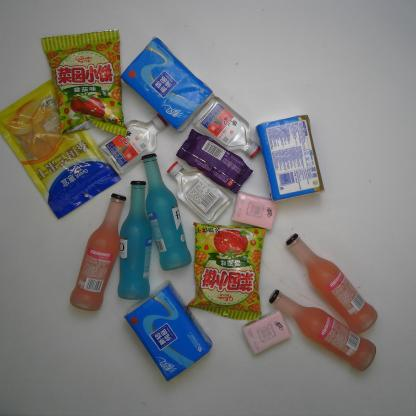Alcohol: (284, 232, 380, 337), (268, 288, 376, 372), (69, 191, 128, 313), (137, 152, 193, 272), (190, 95, 264, 159), (96, 112, 169, 176), (117, 178, 154, 301), (165, 160, 233, 224)
Dessert: (174, 127, 254, 195)
Dried Fruit: (1, 79, 122, 221)
Puffed Food: (39, 28, 130, 139), (185, 221, 269, 324)
Tissue: (121, 278, 214, 384), (118, 36, 216, 133), (255, 114, 325, 201), (239, 311, 292, 357), (232, 191, 278, 232)
